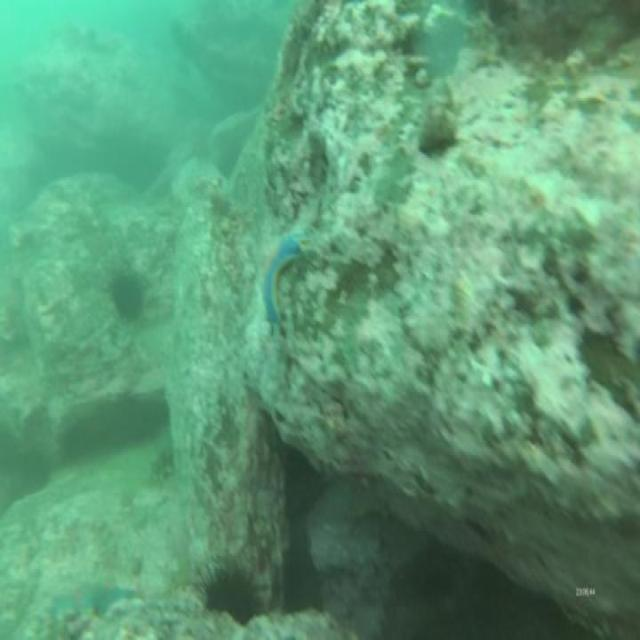echinus: (201, 560, 269, 628), (108, 259, 150, 327)
starfish: (262, 220, 305, 328), (47, 574, 139, 622)
